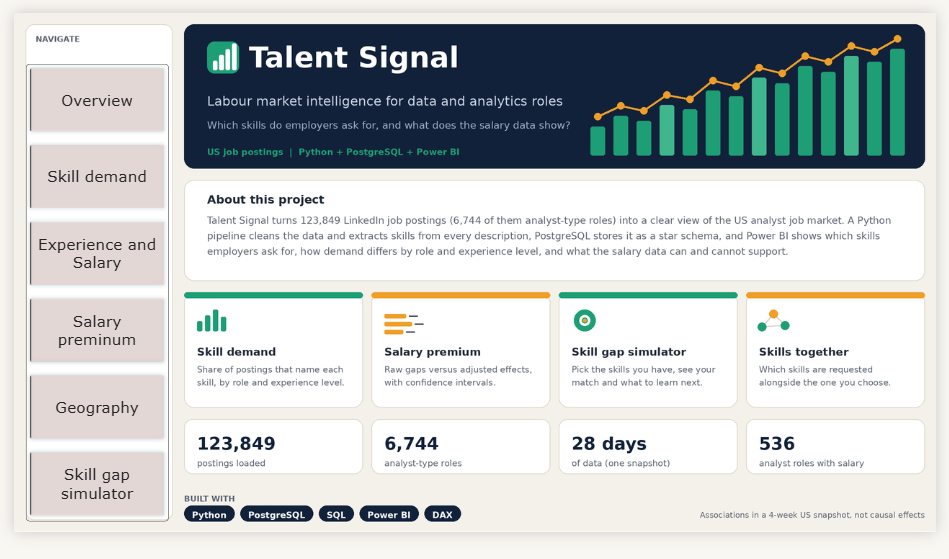

The page's visual inventory and layout, read from the dashboard file:
{"tool":"powerbi","page":{"name":"Home","canvas":[1920,1080],"ordinal":0},"visuals":[{"type":"image","box":[0,0,1921.2,1078.8],"z":0},{"type":"pageNavigator","box":[26.5,105.9,297.1,952.9],"z":501}]}

Visuals, with their boxes on the page's 1920x1080 design canvas (x1, y1, x2, y2). These are canvas units, not pixel positions in the 949x559 screenshot, which may show the page scaled, cropped or inside an application window:
image: x1=0 y1=0 x2=1921 y2=1079
pageNavigator: x1=26 y1=106 x2=324 y2=1059
